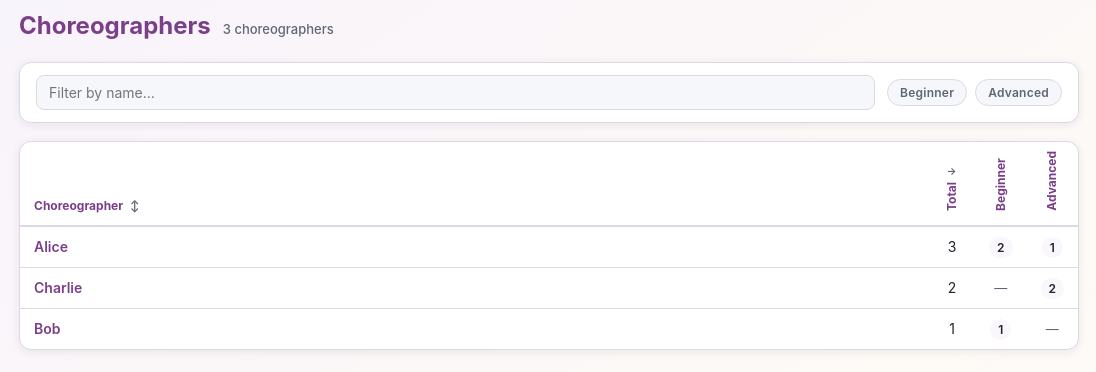
Test: ChoreographersPage › shows empty state when name filter matches nothing
The width and height of the screenshot is (1096, 372).
Expected: the button "Alice" is shown, top-left (34, 238), bottom-right (68, 255)
Type "zzz" into the search field with placeholder "Filter by name…".
click(456, 92); type("zzz")  # box top-left (36, 75), bottom-right (875, 110)
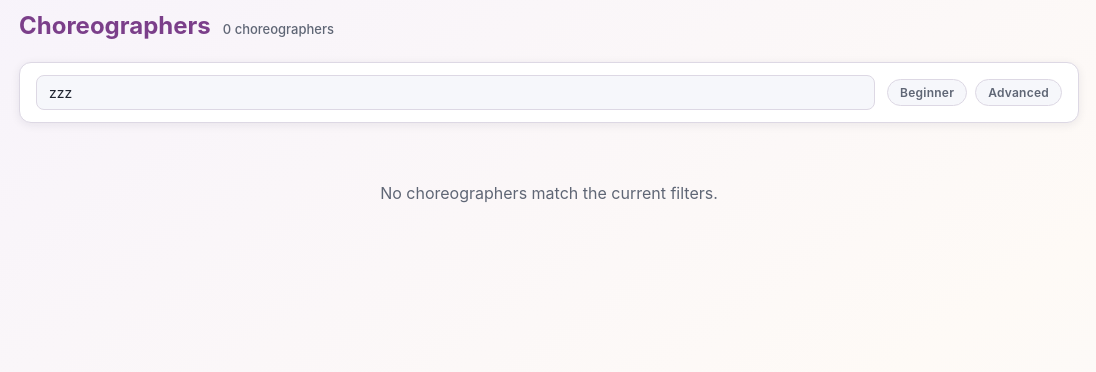
Now the text "No choreographers match the current filters." is shown, box top-left (380, 183), bottom-right (718, 203)
